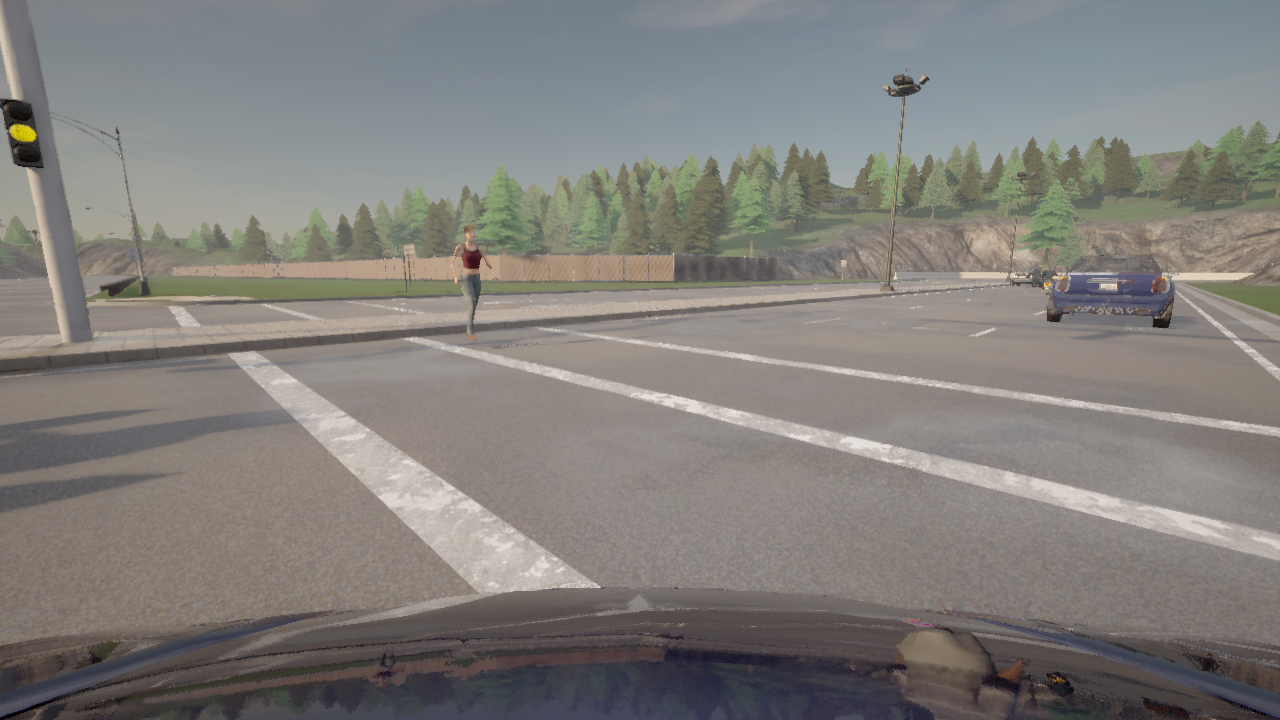cyclist: (0, 588, 1279, 719), (1046, 250, 1179, 328), (1011, 270, 1044, 287), (1041, 273, 1060, 295), (1053, 268, 1068, 280)
pedestrian: (450, 224, 496, 341)
